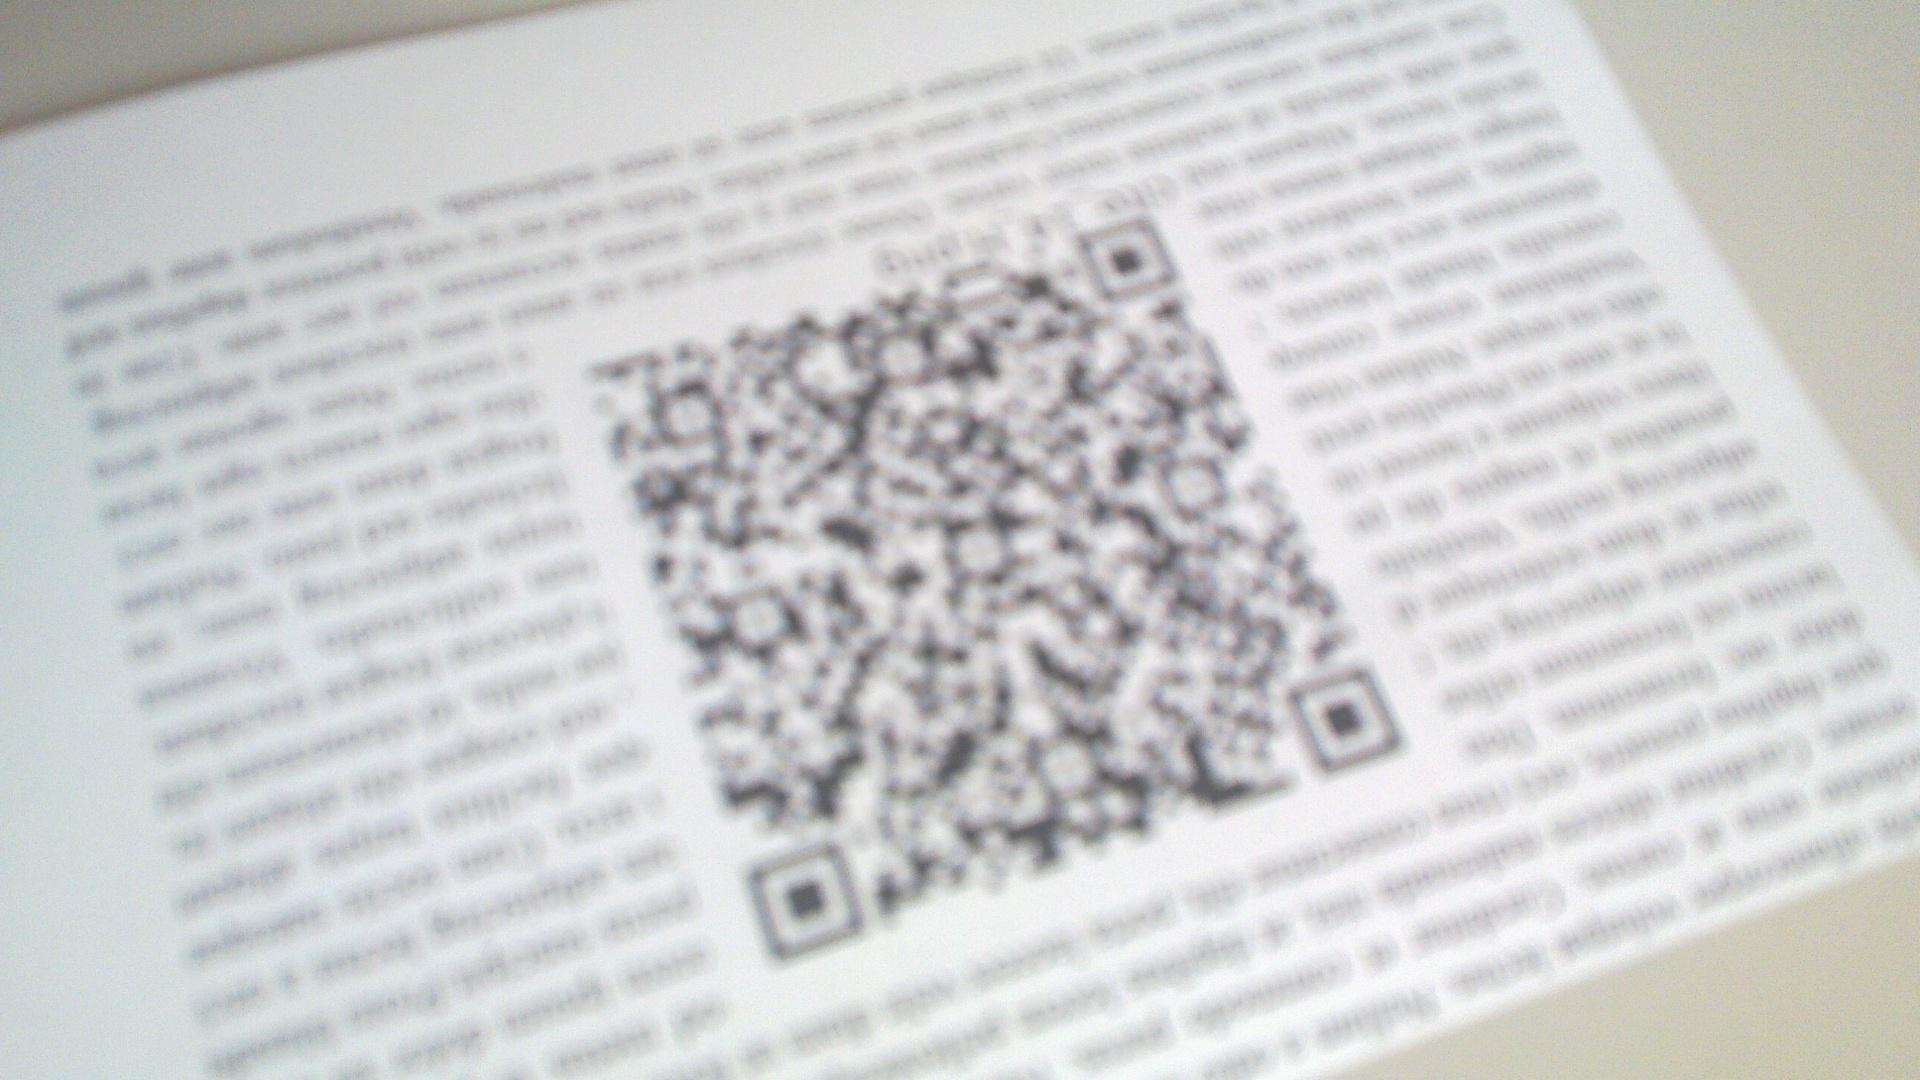Finder pattern: (740, 843, 864, 961), (1290, 661, 1406, 775), (1073, 216, 1180, 301)
